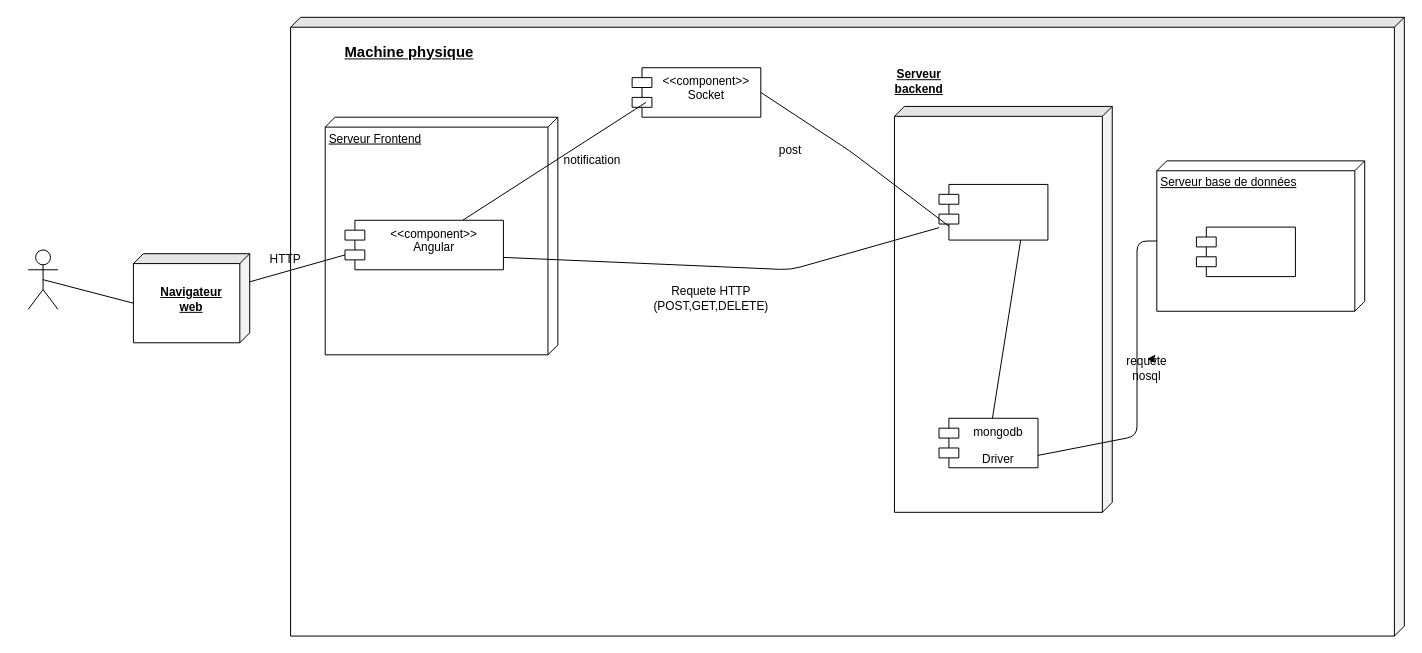
This 1422x653 diagram has some shape labels left out. Each missing label, with the centre of its shape:
mongodb: point 1245,251
REST(.NET): point 993,211
Utilisateur: point 42,279
